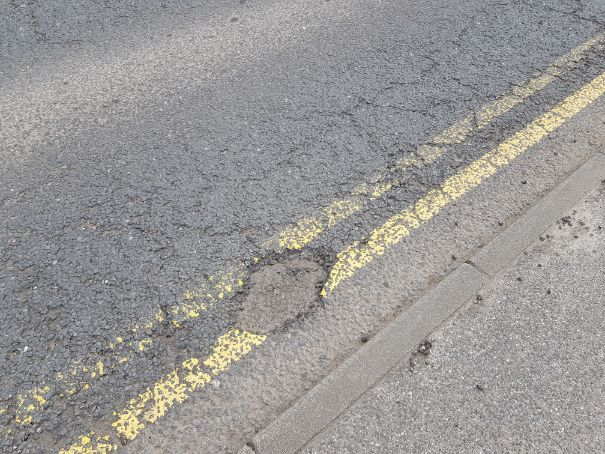pothole: (222, 244, 339, 336)
